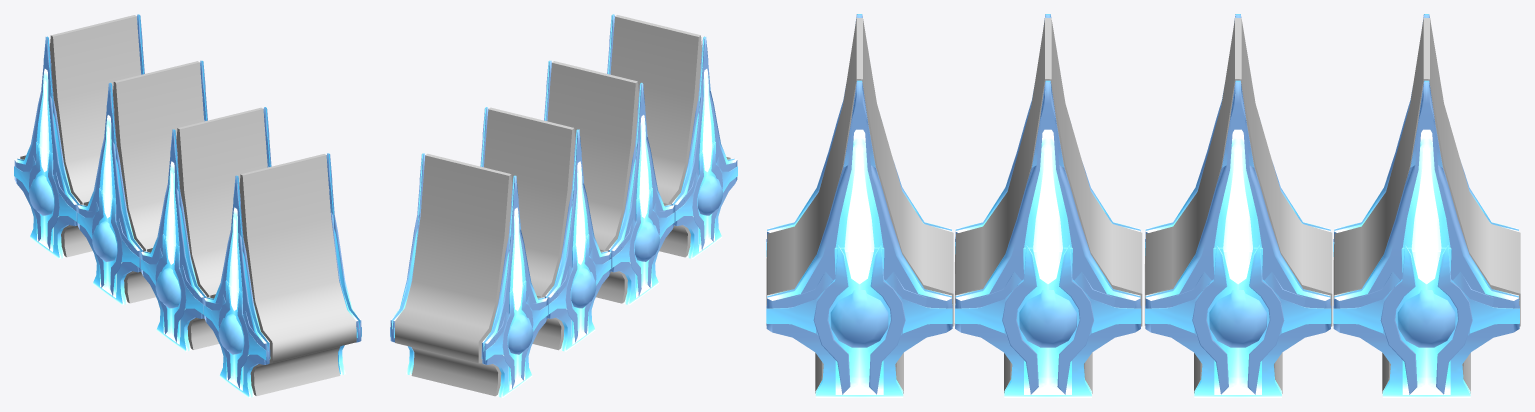
The model's file is Tassadar_ForceWall6.FBX.
3 views of the same model, side by side, from view 1: azimuth 30°, elevation 25°; view 2: azimuth 150°, elevation 25°; view 3: azimuth 270°, elevation 25° (orthographic). The views are drawn at different scales.
Visible parts, largest first — view 1: Box002, Box004, Box001, Box003, Mesh 004, Mesh 008, Mesh 005, Mesh 1, Mesh 003; view 2: Box003, Box001, Box004, Box002, Mesh 005, Mesh 1, Mesh 004, Mesh 008, Mesh 006; view 3: Mesh 006, Mesh 003, Mesh 007, Mesh 002, Box001, Box004, Box002, Box003, Mesh 004, Mesh 005, Mesh 008, Mesh 1.
Part boxes in pixels (x1,y1,x2,y2): Box002: (210,154,356,396); Box004: (83,61,204,303); Box001: (147,107,267,349); Box003: (20,15,140,257); Mesh 004: (203,175,270,397); Mesh 008: (77,82,143,305); Mesh 005: (14,36,80,258); Mesh 1: (140,129,206,351); Mesh 003: (326,153,361,375); Box003: (395,153,540,396); Box001: (547,61,667,303); Box004: (484,107,604,350); Box002: (610,15,730,257); Mesh 005: (481,175,548,397); Mesh 1: (608,82,674,305); Mesh 004: (671,36,737,258); Mesh 008: (545,129,611,351); Mesh 006: (390,153,425,375); Mesh 006: (1333,80,1519,397); Mesh 003: (766,80,952,397); Mesh 007: (1145,80,1331,397); Mesh 002: (955,80,1141,397); Box001: (954,17,1142,393); Box004: (1144,17,1332,393); Box002: (766,17,953,393); Box003: (1333,17,1520,393); Mesh 004: (766,14,951,256); Mesh 005: (1333,14,1518,256); Mesh 008: (1145,14,1330,255); Mesh 1: (955,14,1140,253).
Size of the model in its own units: 208 by 363 by 788.
